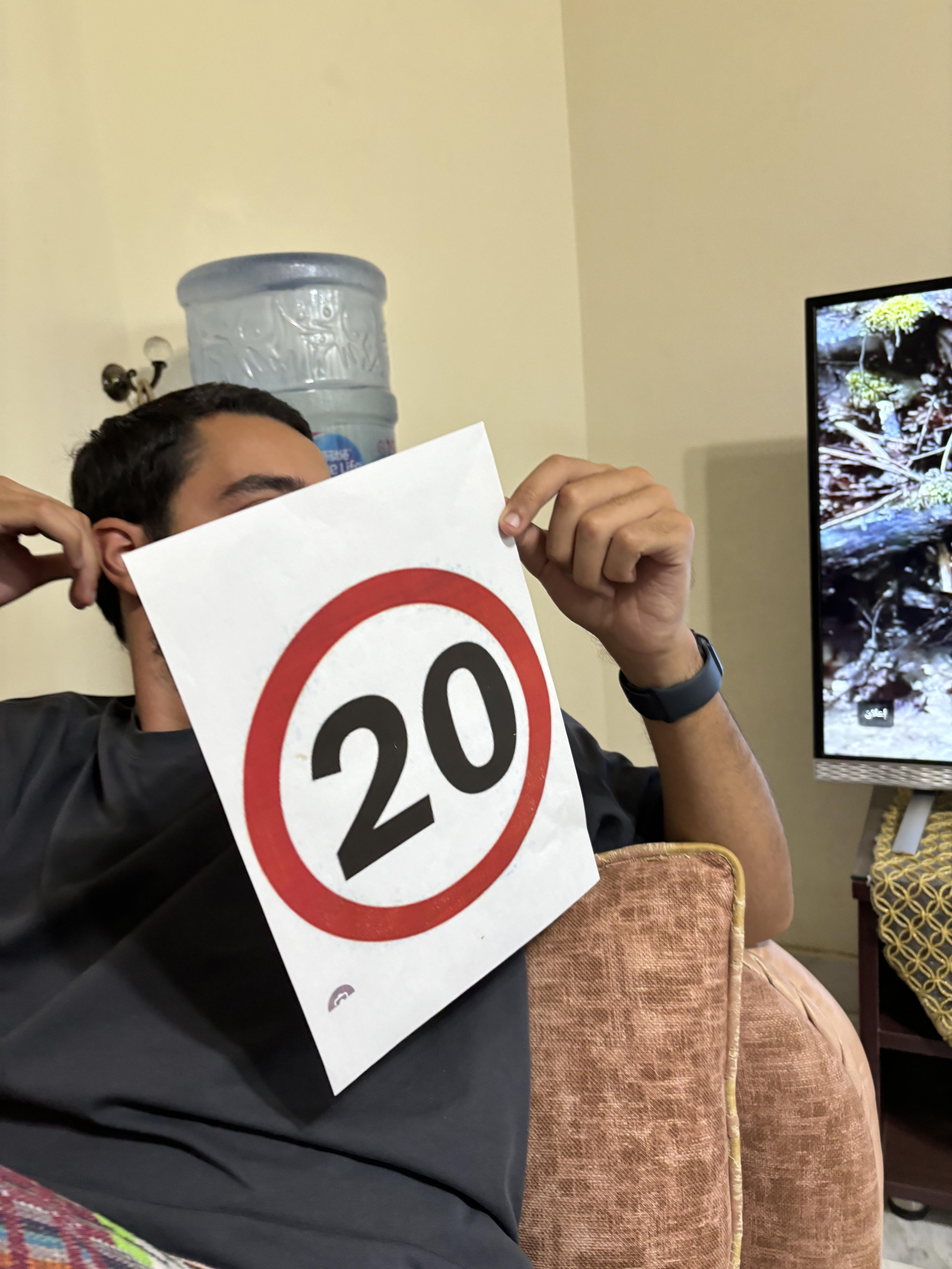20-Speed: (218, 565, 552, 929)
